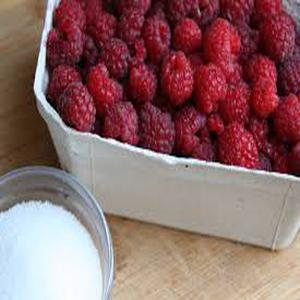raspb: (88, 2, 300, 132)
